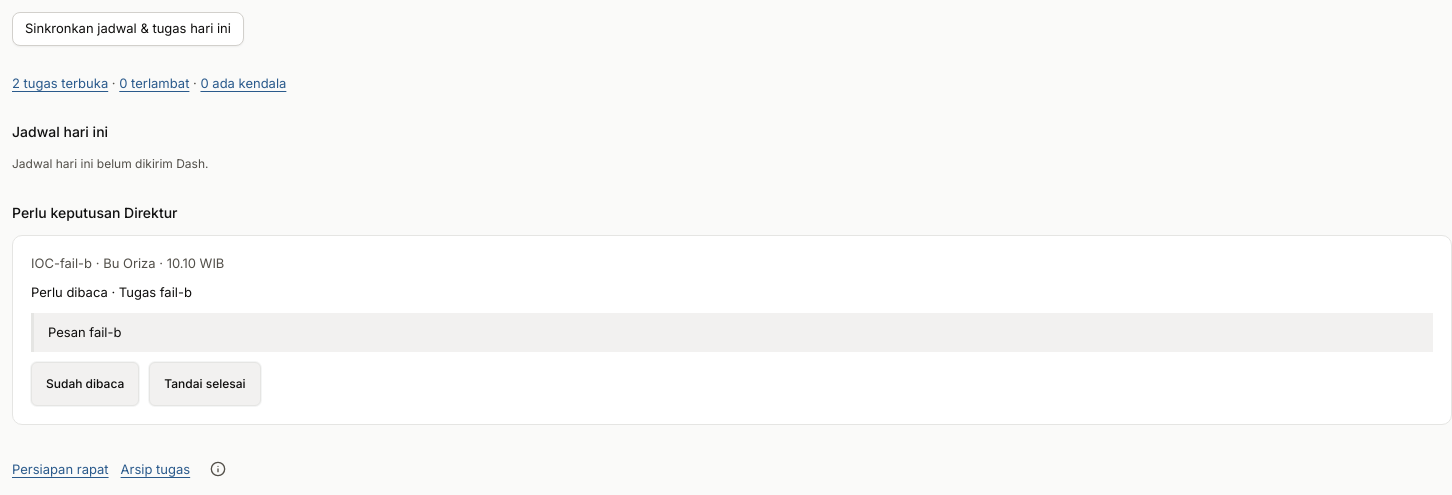
Test: Task board read marks › keeps the card hidden and shows no error when the save answers 503
The image size is (1452, 495).
expect the text "Pesan fail-b" is shown: met, box 31,313 -> 1433,352
Click the button "Sudah dibaca": coordinates (85, 384) 31,362 -> 139,406
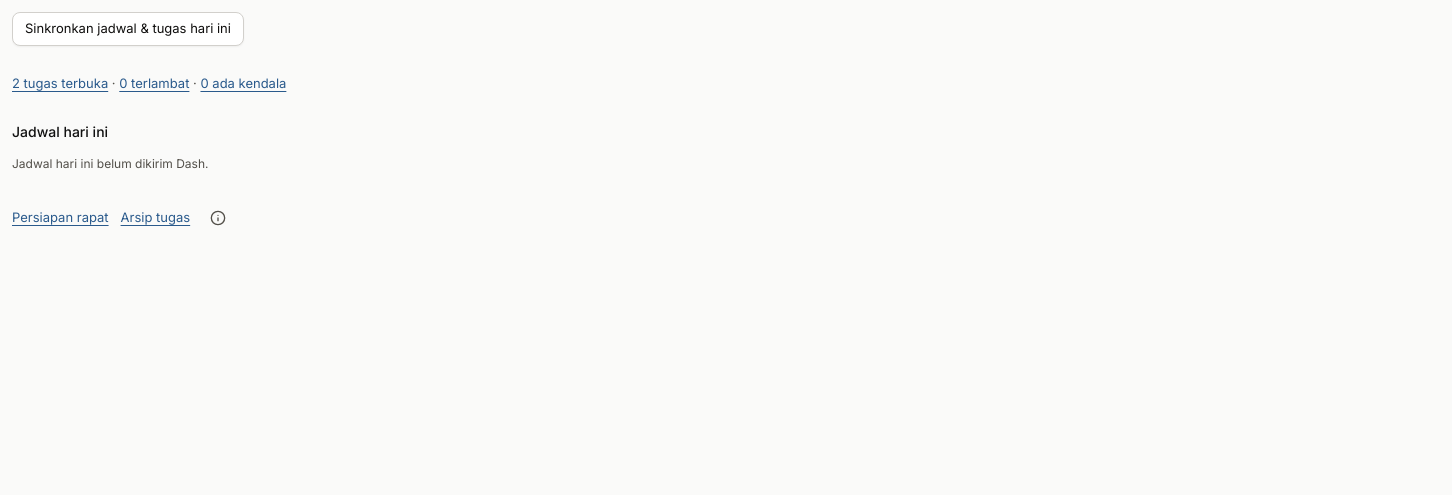
expect the text "Pesan fail-b" is gone: met
